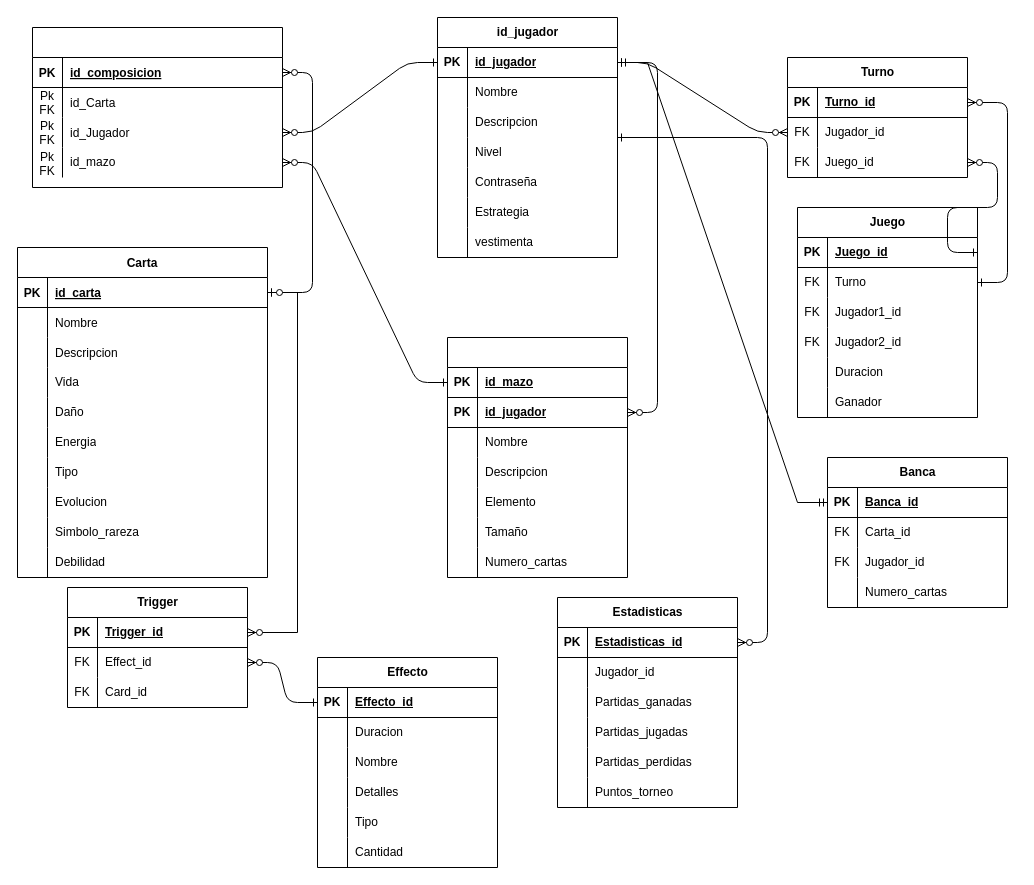
This 1034x885 diagram has some shape labels left out. Each missing label, with the box of its shape:
Inventario: (32, 26, 282, 188)
Mazo / Deck: (446, 336, 628, 578)
